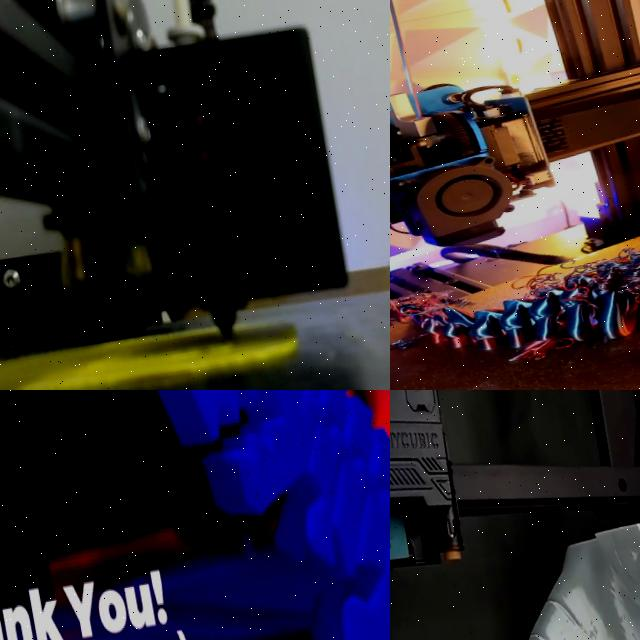spaghetti: (552, 194, 640, 331), (390, 261, 466, 338)
